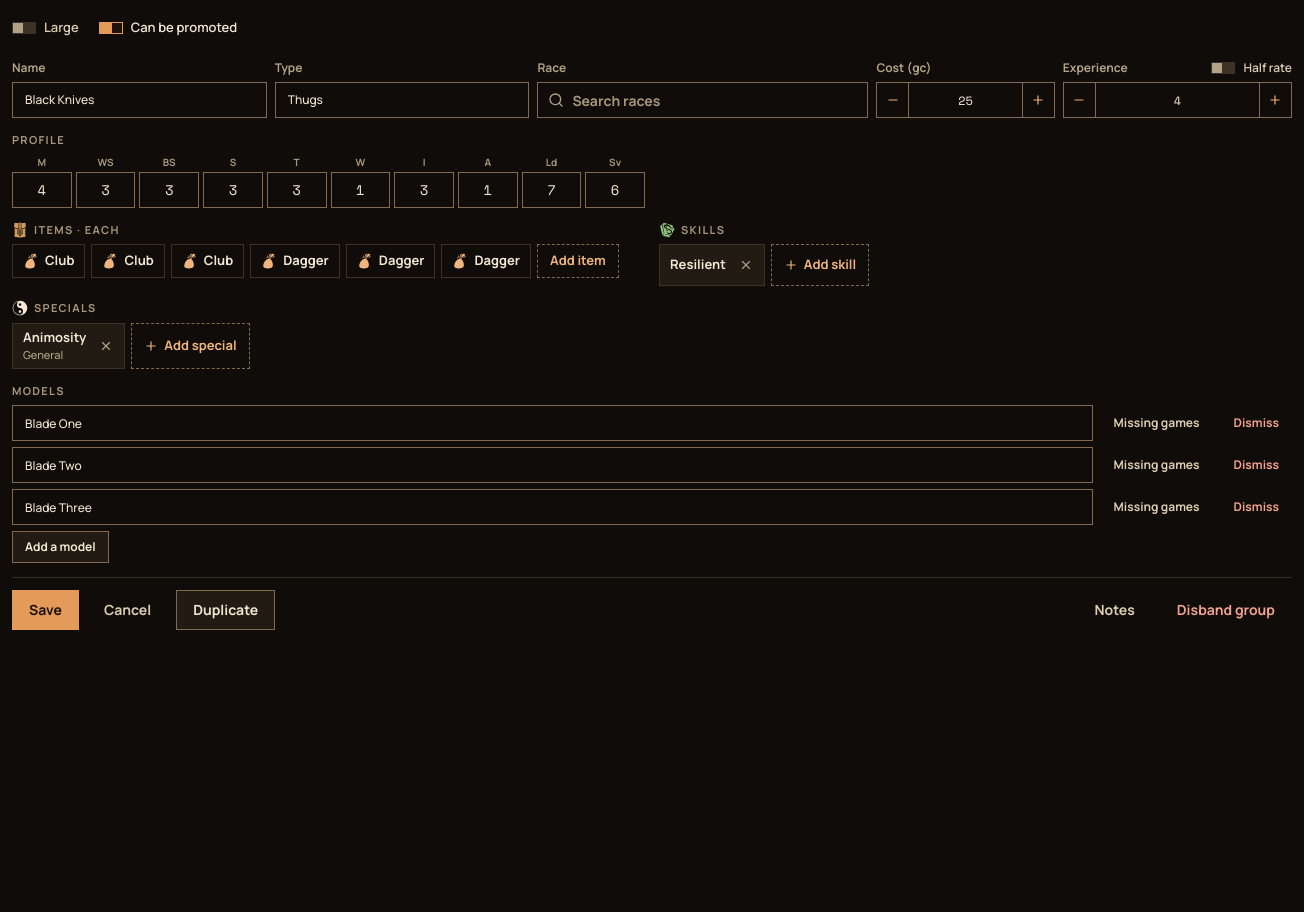
A group's models in the Edit form › set one model's missing games, and the group none of its own
The width and height of the screenshot is (1304, 912).
Later steps or results of the test are not shown.
Click the button with aria-label "Missing games of model 2": click(1157, 465) [1101,449,1213,481]
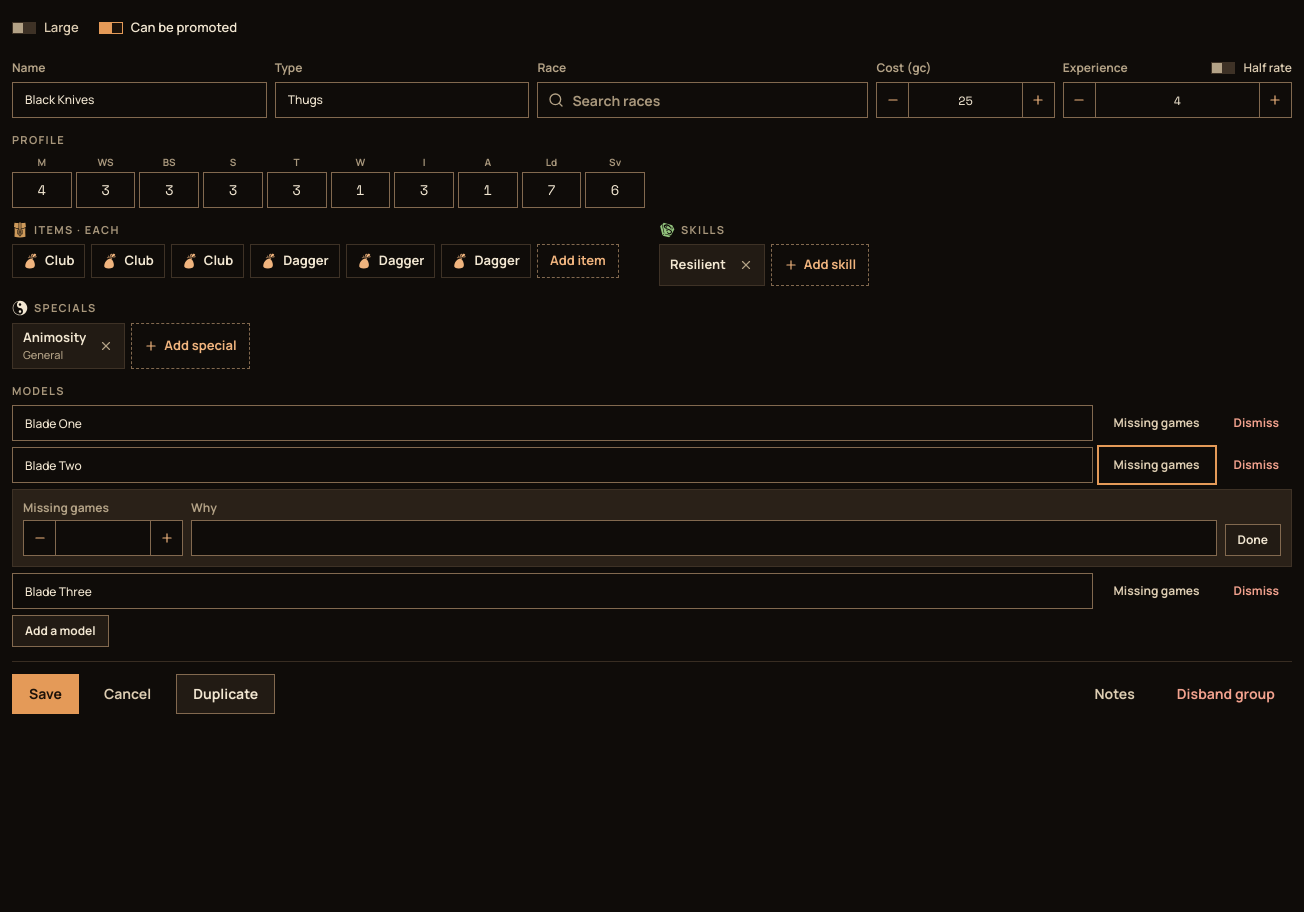
In the number field named "Model 2: missing games": (103, 538) [55,520,151,556], type "2"
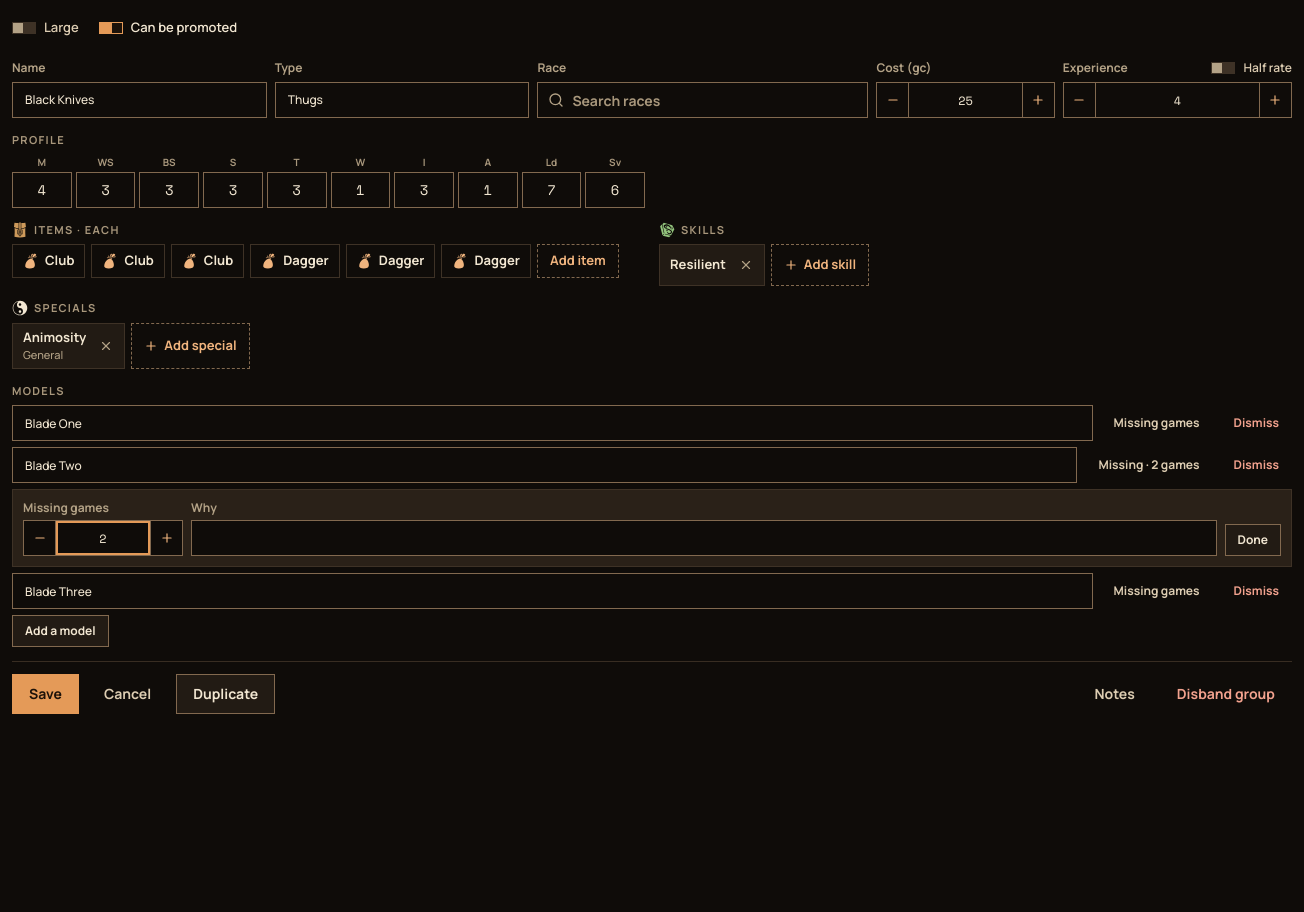
In the field named "Model 2: why": (704, 538) [191,520,1216,556], type "Captured"
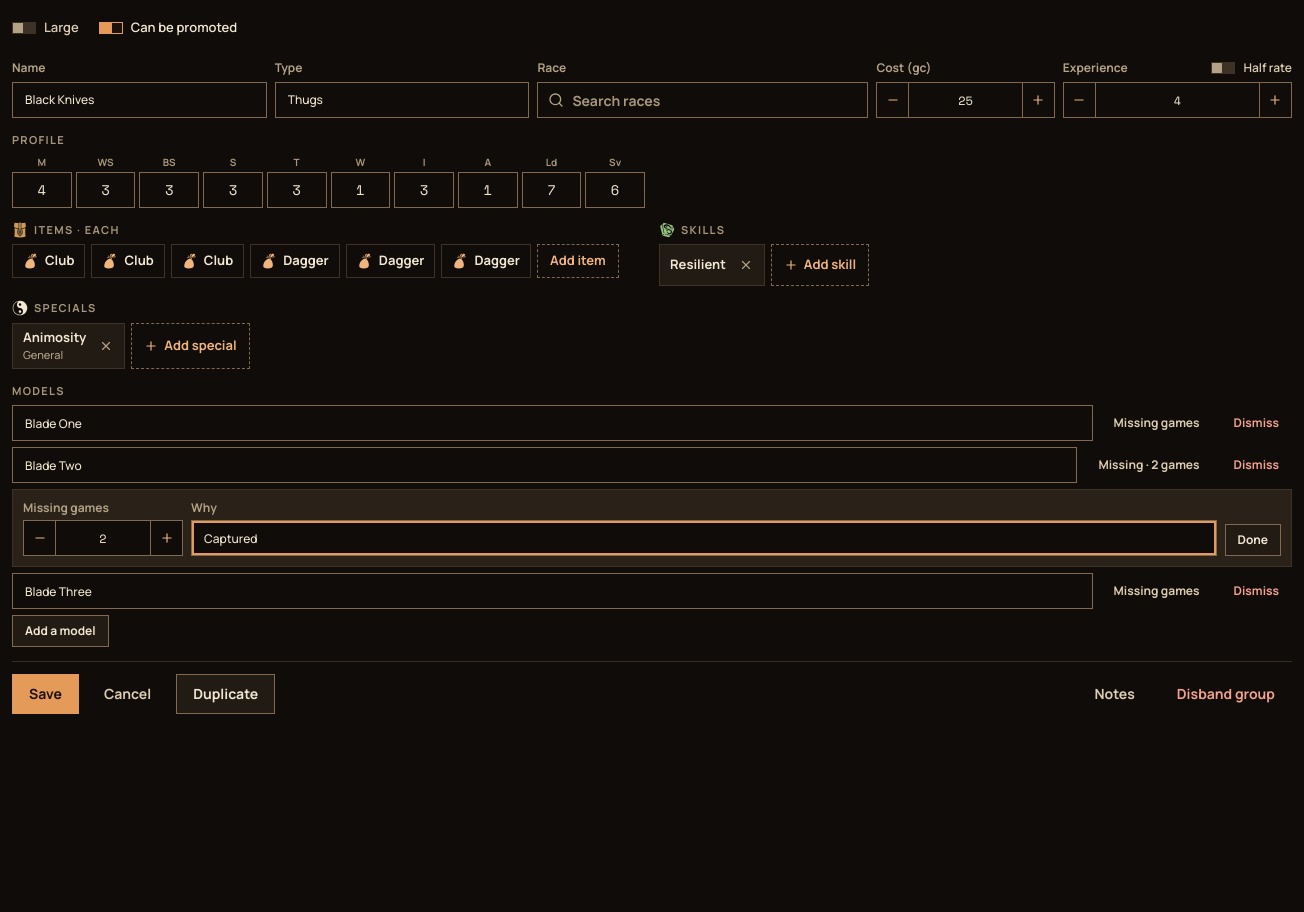
Click the button "Done": click(1253, 540) [1224,524,1281,556]
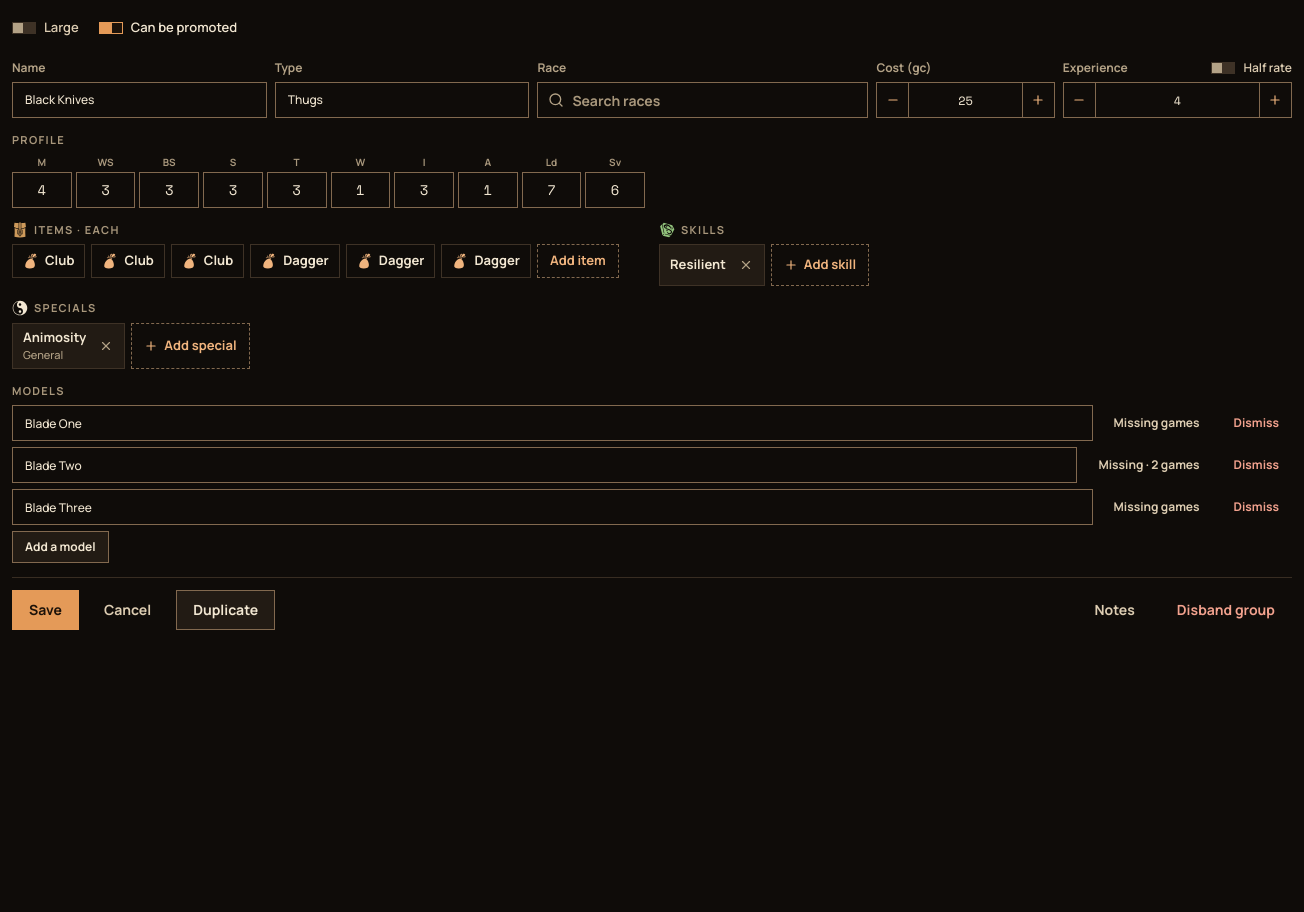
Now the button with aria-label "Missing games of model 2" reads "Missing · 2 games", box [1085,449,1213,481]
